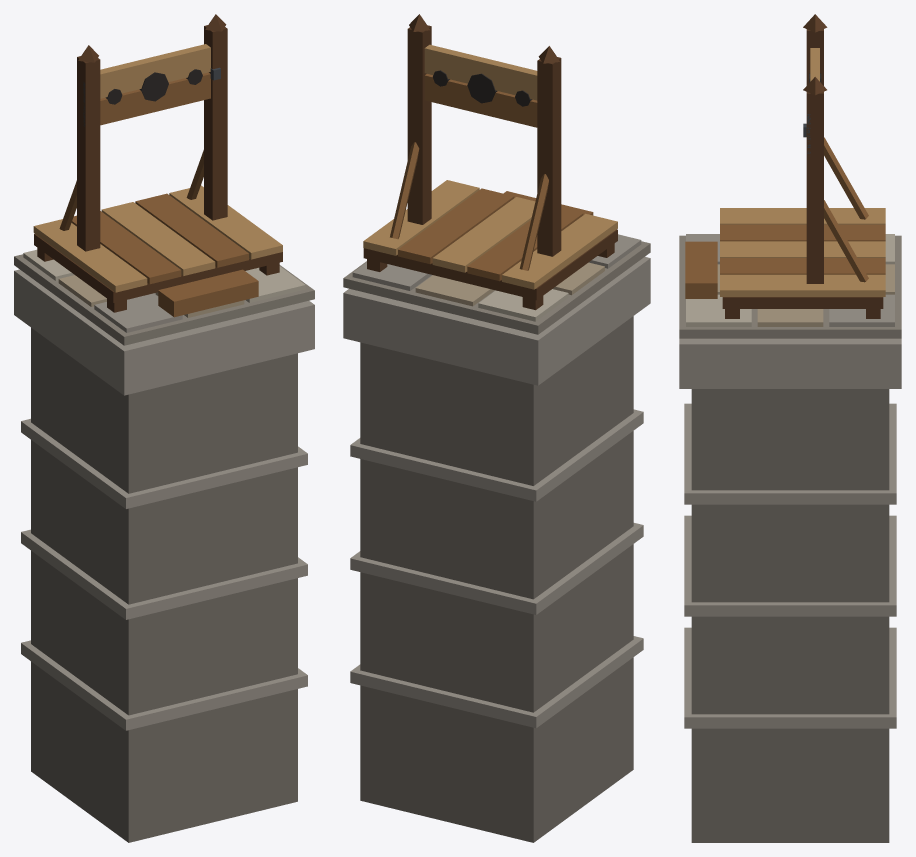
Rendered from decor_pillory.glb.
3 renders of one model, left to right at view 1: azimuth 30°, elevation 25°; view 2: azimuth 150°, elevation 25°; view 3: azimuth 270°, elevation 25°, orthographic. The views are drawn at different scales.
Parts seen in each view (by area): view 1: decor_pillory; view 2: decor_pillory; view 3: decor_pillory.
Boxes of the visible parts, <box> form: decor_pillory: <box>14,14,314,842</box>; decor_pillory: <box>343,14,650,842</box>; decor_pillory: <box>679,14,901,842</box>.
Size of the model in its own units: 1.8 by 6.75 by 1.8.
